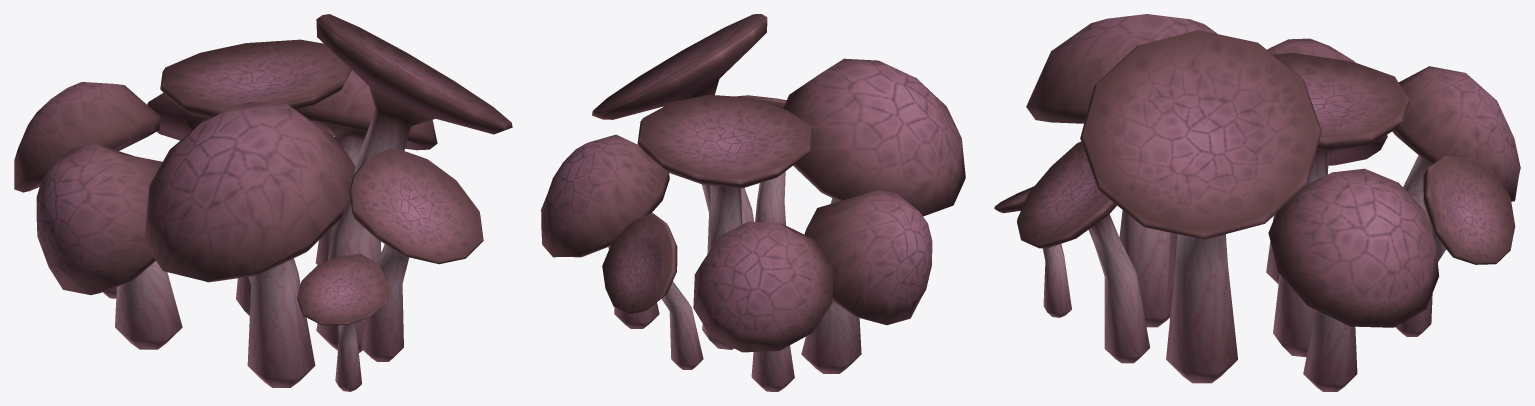
Rendered from Prop_Mushrooms_01.FBX.
3 views of the same model, side by side, from view 1: azimuth 30°, elevation 25°; view 2: azimuth 150°, elevation 25°; view 3: azimuth 270°, elevation 25° (orthographic). The views are drawn at different scales.
Parts seen in each view (by area): view 1: Prop_Mushrooms_01; view 2: Prop_Mushrooms_01; view 3: Prop_Mushrooms_01.
Boxes of the visible parts, bbox=[...] form: Prop_Mushrooms_01: bbox=[14, 14, 512, 391]; Prop_Mushrooms_01: bbox=[541, 14, 965, 391]; Prop_Mushrooms_01: bbox=[994, 14, 1520, 391].
Bounding box in the file's own units: 3.87 × 2.98 × 4.14.
